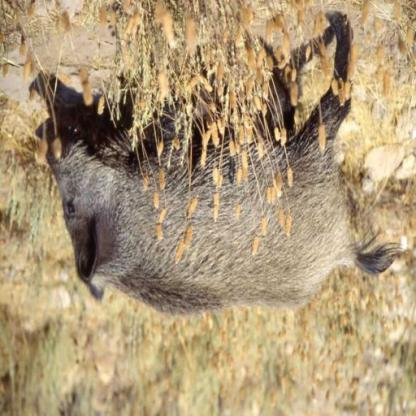boar: (48, 22, 390, 316)
